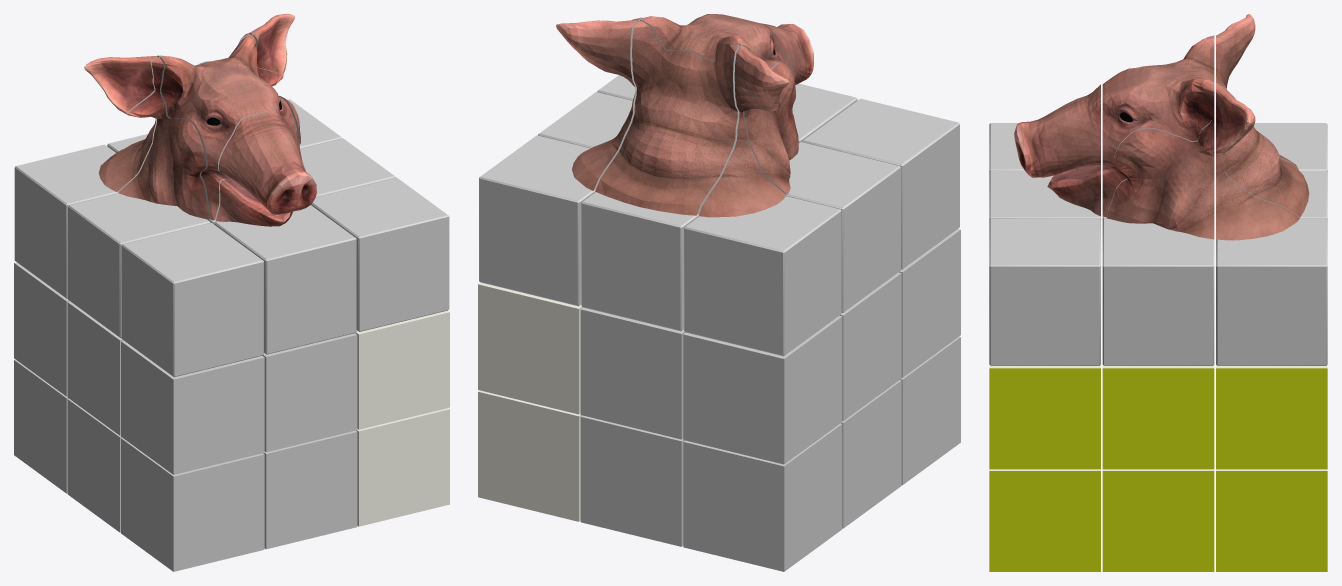
File: cubeWithMushroomFromHoudini008_pighead.glb
3 renders of one model, left to right at view 1: azimuth 30°, elevation 25°; view 2: azimuth 150°, elevation 25°; view 3: azimuth 270°, elevation 25°, orthographic. The views are drawn at different scales.
Visible parts, largest first — view 1: Cube_014, Cube_005, Cube_023, Cube_017, Cube_011, Cube_009_Models, Cube_002, Cube_020, Cube_008, Cube_026, Cube_012, Cube_013 (+11 smaller); view 2: Cube_013, Cube_009_Models3, Cube_004, Cube_022, Cube_016, Cube_014, Cube_010, Cube_001, Cube_019, Cube_007, Cube_025, Cube_012 (+11 smaller); view 3: Cube_017, Cube_015, Cube_016, Cube_006, Cube_007, Cube_008, Cube_024, Cube_025, Cube_026, Cube_009_Models5, Cube_009_Models, Cube_009_Models8 (+7 smaller).
Part boxes in pixels (x1,y1,x2,y2): Cube_014: (121, 223, 263, 377); Cube_005: (121, 340, 264, 474); Cube_023: (121, 438, 264, 571); Cube_017: (311, 177, 449, 331); Cube_011: (214, 205, 356, 354); Cube_009_Models: (160, 35, 298, 220); Cube_002: (262, 333, 357, 452); Cube_020: (263, 430, 357, 549); Cube_008: (355, 310, 449, 429); Cube_026: (356, 408, 449, 526); Cube_012: (68, 193, 210, 337); Cube_013: (14, 144, 118, 298); Cube_013: (684, 196, 841, 356); Cube_009_Models3: (595, 20, 739, 215); Cube_004: (683, 315, 842, 464); Cube_022: (683, 423, 842, 571); Cube_016: (479, 135, 595, 306); Cube_014: (802, 98, 959, 269); Cube_010: (581, 192, 698, 331); Cube_001: (580, 307, 685, 439); Cube_019: (580, 415, 684, 546); Cube_007: (478, 282, 582, 414); Cube_025: (478, 390, 581, 521); Cube_012: (786, 142, 900, 312); Cube_017: (989, 219, 1100, 365); Cube_015: (1102, 219, 1214, 365); Cube_016: (1216, 219, 1327, 365); Cube_006: (1102, 365, 1214, 469); Cube_007: (1216, 365, 1327, 469); Cube_008: (989, 365, 1100, 469); Cube_024: (1102, 469, 1214, 571); Cube_025: (1216, 469, 1327, 571); Cube_026: (989, 469, 1100, 571); Cube_009_Models5: (1107, 85, 1214, 239); Cube_009_Models: (1102, 37, 1214, 217); Cube_009_Models8: (1014, 84, 1100, 216).
Bounding box in the file's own units: 6.07 × 8.73 × 6.07.
5 materials, 1 textured.
